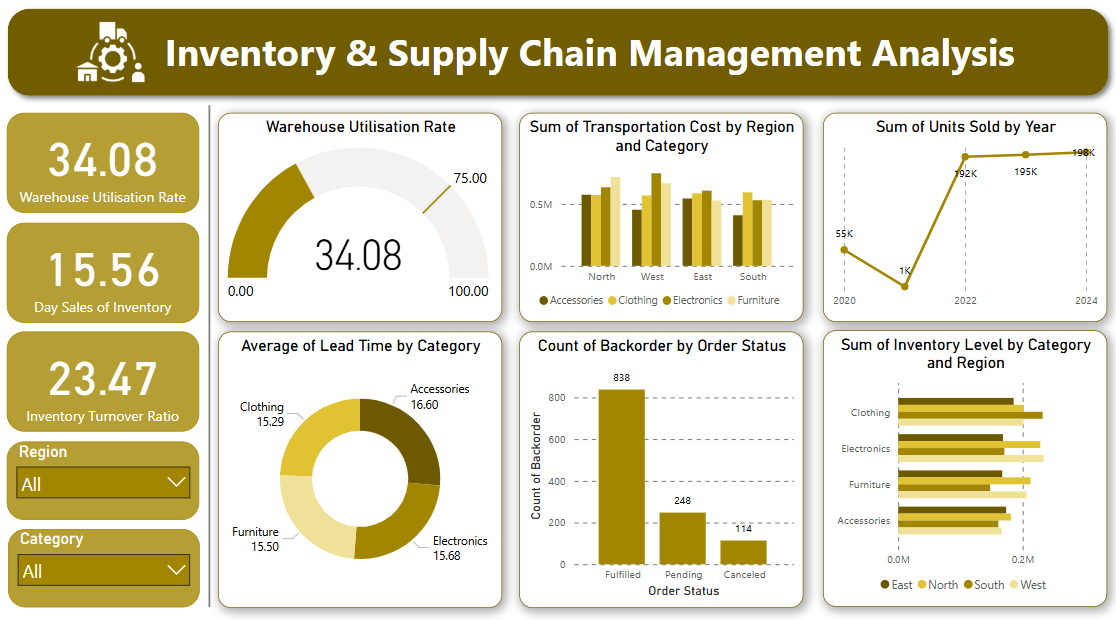

The dashboard page shown, as its layout file describes it:
{"tool":"powerbi","page":{"name":"Page 1","canvas":[1280,720],"ordinal":0},"visuals":[{"type":"shape","box":[0,0,1280,121.9],"z":0},{"type":"textbox","box":[180.4,26.1,992.7,69.7],"z":1000},{"type":"image","box":[77.1,11.2,103.2,98.3],"z":2000},{"type":"shape","box":[232.5,121.9,17.5,573.8],"z":3000},{"type":"card","fields":{"Values":["Inventory_SupplyChain_Dataset.Warehouse Utilisation Rate"]},"box":[10,130.6,220.2,114.4],"z":4000},{"type":"card","fields":{"Values":["Inventory_SupplyChain_Dataset.Day Sales of Inventory"]},"box":[10,255,220.2,114.4],"z":5000},{"type":"card","fields":{"Values":["Inventory_SupplyChain_Dataset.Inventory Turnover Ratio"]},"box":[10,379.4,220.2,114.4],"z":6000},{"type":"slicer","fields":{"Values":["Inventory_SupplyChain_Dataset.Region"]},"box":[10,505,220.2,89.6],"z":7000},{"type":"slicer","fields":{"Values":["Inventory_SupplyChain_Dataset.Category"]},"box":[11.2,605.8,218.9,89.6],"z":8000},{"type":"gauge","fields":{"Y":["Inventory_SupplyChain_Dataset.Warehouse Utilisation Rate"]},"box":[251.3,130.6,324.7,238.8],"z":9000},{"type":"clusteredColumnChart","fields":{"Y":["Sum(Inventory_SupplyChain_Dataset.Transportation Cost)"],"Category":["Inventory_SupplyChain_Dataset.Region"],"Series":["Inventory_SupplyChain_Dataset.Category"]},"box":[595.9,130.6,324.7,238.8],"z":10000},{"type":"lineChart","fields":{"Y":["Sum(Inventory_SupplyChain_Dataset.Units Sold)"],"Category":["Inventory_SupplyChain_Dataset.Date.Variation.Date Hierarchy.Year"]},"box":[942.9,130.6,324.7,238.8],"z":11000},{"type":"donutChart","fields":{"Y":["Avg(Inventory_SupplyChain_Dataset.Lead Time)"],"Category":["Inventory_SupplyChain_Dataset.Category"]},"box":[251.3,379.4,324.7,316],"z":11001},{"type":"columnChart","fields":{"Category":["Inventory_SupplyChain_Dataset.Order Status"],"Y":["CountNonNull(Inventory_SupplyChain_Dataset.Backorder)"]},"box":[595.9,379.4,324.7,316],"z":11002},{"type":"clusteredBarChart","fields":{"Y":["Sum(Inventory_SupplyChain_Dataset.Inventory Level)"],"Category":["Inventory_SupplyChain_Dataset.Category"],"Series":["Inventory_SupplyChain_Dataset.Region"]},"box":[943,379,325,316],"z":11003}]}

Visuals, with their boxes in screenshot pixels (x1, y1, x2, y2), scaled from the page's 1280x720 canvas onto the 1116x620 screenshot:
shape: bbox=(0, 0, 1115, 105)
textbox: bbox=(157, 22, 1023, 82)
image: bbox=(67, 10, 157, 94)
shape: bbox=(203, 105, 218, 599)
card - Inventory_SupplyChain_Dataset.Warehouse Utilisation Rate: bbox=(9, 112, 201, 211)
card - Inventory_SupplyChain_Dataset.Day Sales of Inventory: bbox=(9, 220, 201, 318)
card - Inventory_SupplyChain_Dataset.Inventory Turnover Ratio: bbox=(9, 327, 201, 425)
slicer - Inventory_SupplyChain_Dataset.Region: bbox=(9, 435, 201, 512)
slicer - Inventory_SupplyChain_Dataset.Category: bbox=(10, 522, 201, 599)
gauge - Inventory_SupplyChain_Dataset.Warehouse Utilisation Rate: bbox=(219, 112, 502, 318)
clusteredColumnChart - Sum(Inventory_SupplyChain_Dataset.Transportation Cost) x Inventory_SupplyChain_Dataset.Region: bbox=(520, 112, 803, 318)
lineChart - Sum(Inventory_SupplyChain_Dataset.Units Sold) x Inventory_SupplyChain_Dataset.Date.Variation.Date Hierarchy.Year: bbox=(822, 112, 1105, 318)
donutChart - Avg(Inventory_SupplyChain_Dataset.Lead Time) x Inventory_SupplyChain_Dataset.Category: bbox=(219, 327, 502, 599)
columnChart - Inventory_SupplyChain_Dataset.Order Status x CountNonNull(Inventory_SupplyChain_Dataset.Backorder): bbox=(520, 327, 803, 599)
clusteredBarChart - Sum(Inventory_SupplyChain_Dataset.Inventory Level) x Inventory_SupplyChain_Dataset.Category: bbox=(822, 326, 1106, 598)
